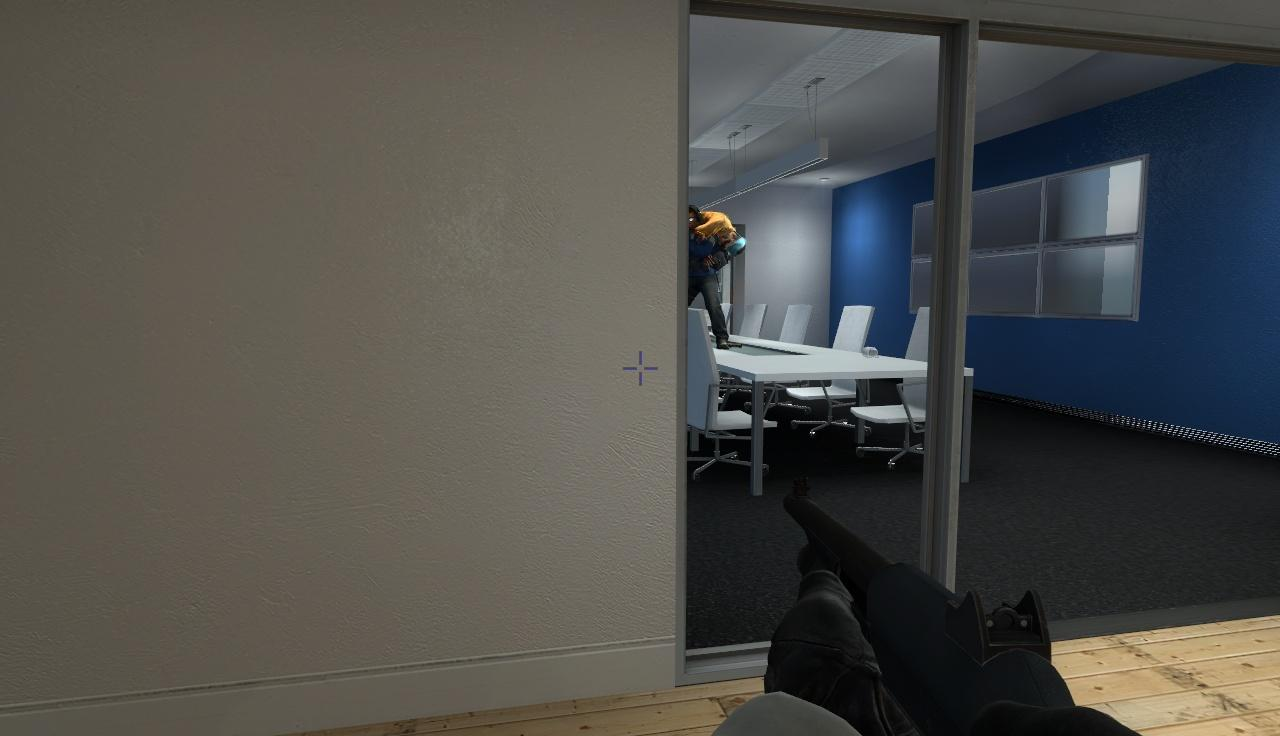ct: (688, 202, 719, 352)
cthead: (688, 204, 701, 231)
shotgun: (774, 479, 1091, 736)
